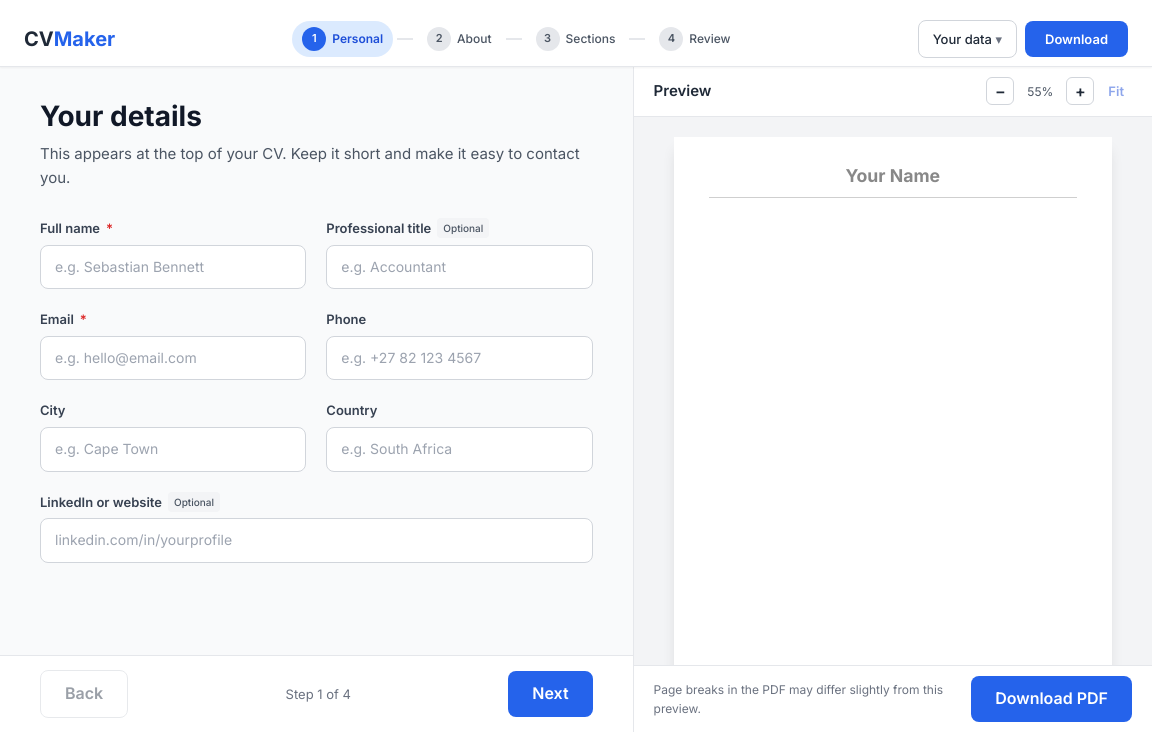
App › review step reports missing details and links to them
Click the button "4 Review": (695, 39) [649,21,741,57]
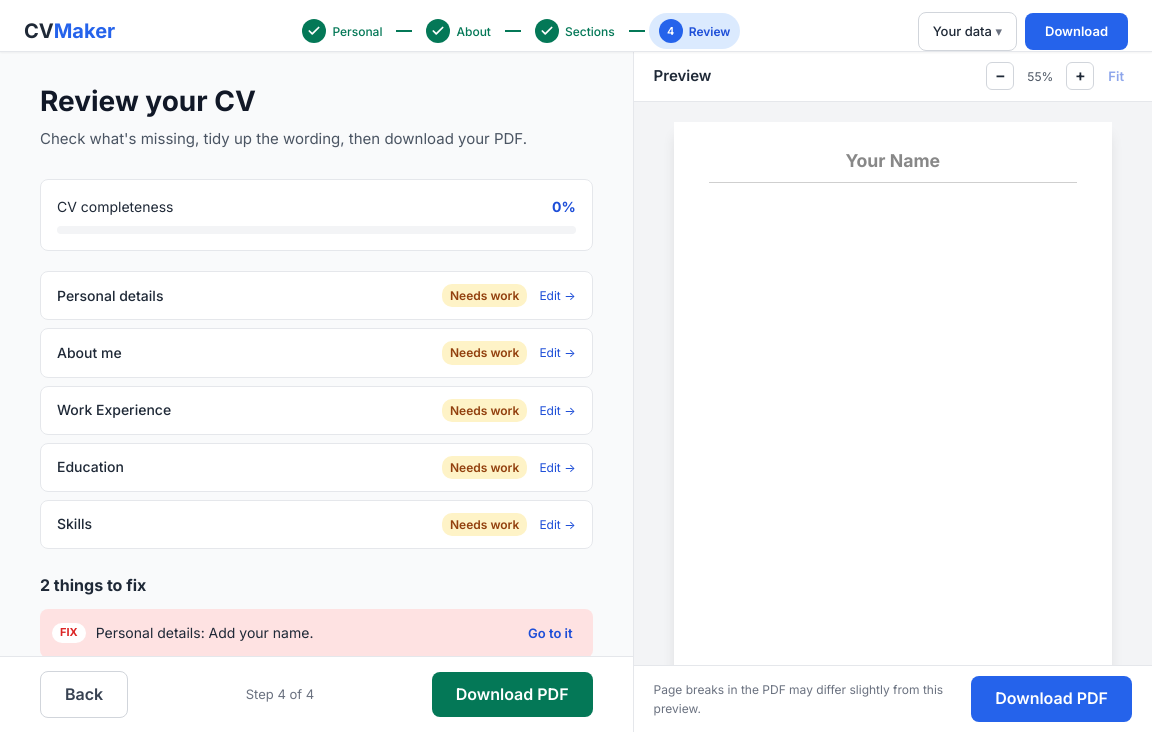
Result: the text "Personal details: Add your name." is shown at [96,624,314,641]
Click the button "Go to it": (550, 633) [520,619,581,648]
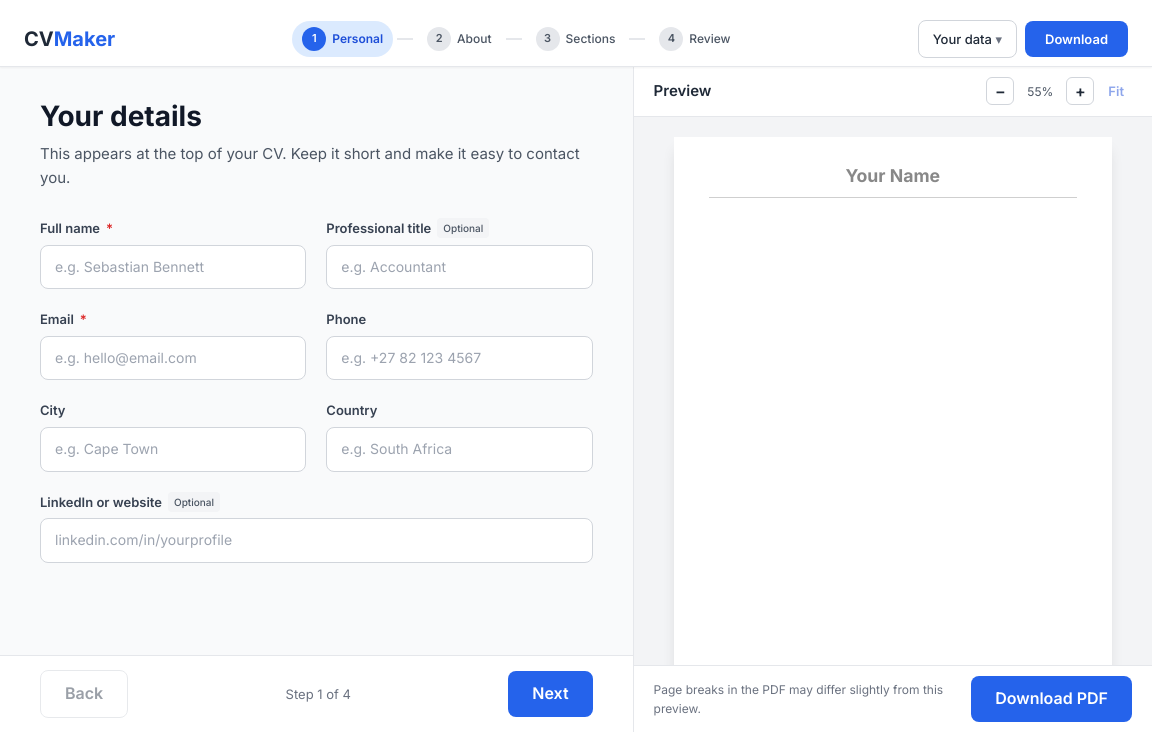
Result: the heading "Your details" is shown at [40,99,202,133]
